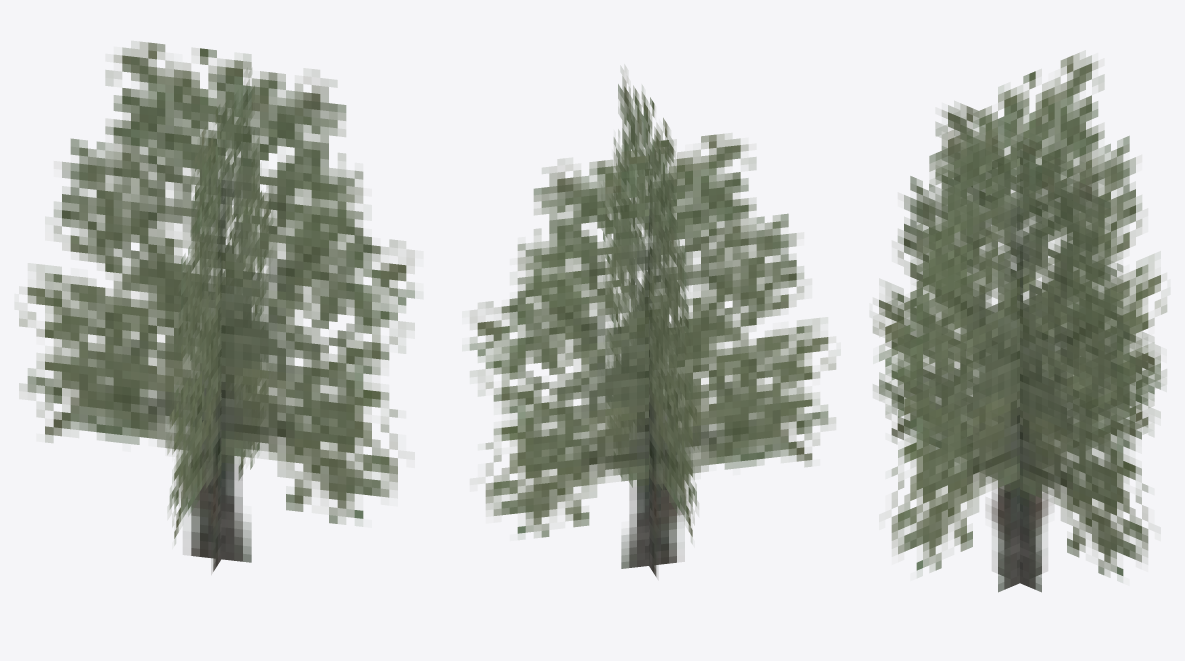
The model's file is tree-large.glb.
3 renders of one model, left to right at view 1: azimuth 30°, elevation 25°; view 2: azimuth 150°, elevation 25°; view 3: azimuth 270°, elevation 25°, orthographic. The views are drawn at different scales.
Visible parts, largest first — view 1: tree-large; view 2: tree-large; view 3: tree-large.
Part boxes in pixels (x1,y1,x2,y2): tree-large: (19, 41, 414, 574); tree-large: (469, 66, 835, 578); tree-large: (873, 51, 1166, 592).
Bounding box in the file's own units: 0.9192 × 1.7 × 0.9192.
Materials: 1 (1 with a texture image).
